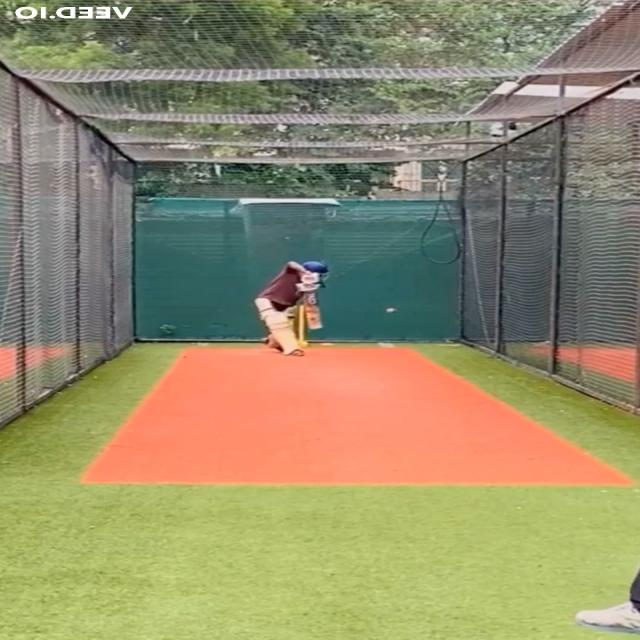ball: (386, 307, 398, 315)
stump: (296, 305, 307, 344)
